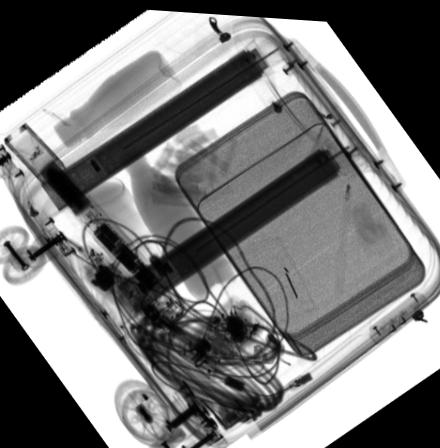Baton: (3, 122, 162, 290)
